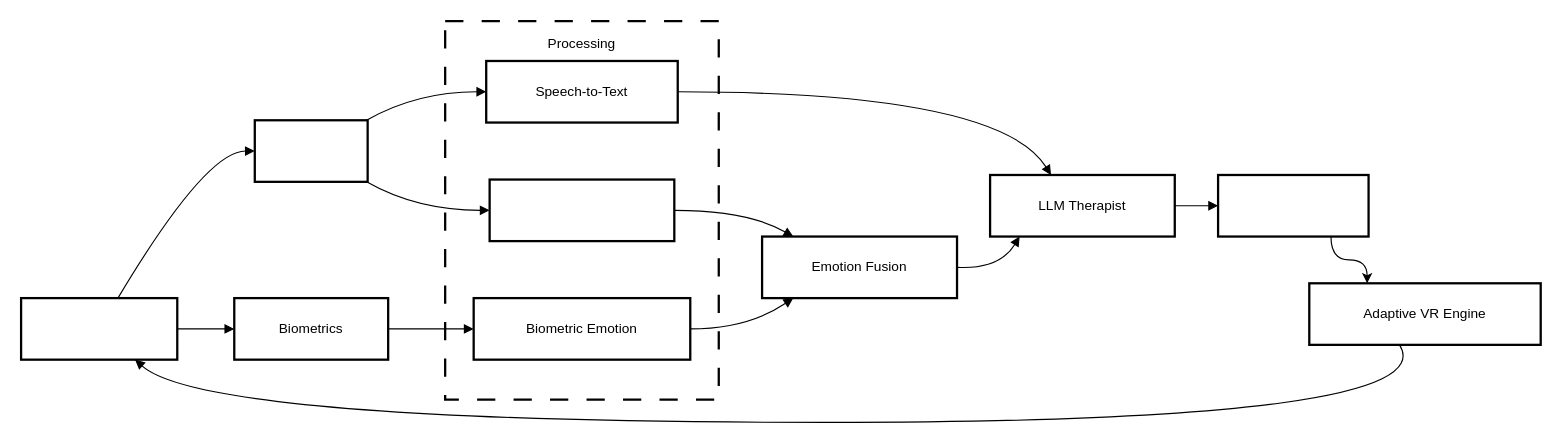
Some shapes in this 1561 by 442 pixel diagram are drawn without their labels. Each missing label, with the centre of its shape:
"Response" goes at pixel 1292 205.
"User in VR" goes at pixel 98 328.
"Voice" goes at pixel 310 150.
"Voice Emotion" goes at pixel 581 210.
